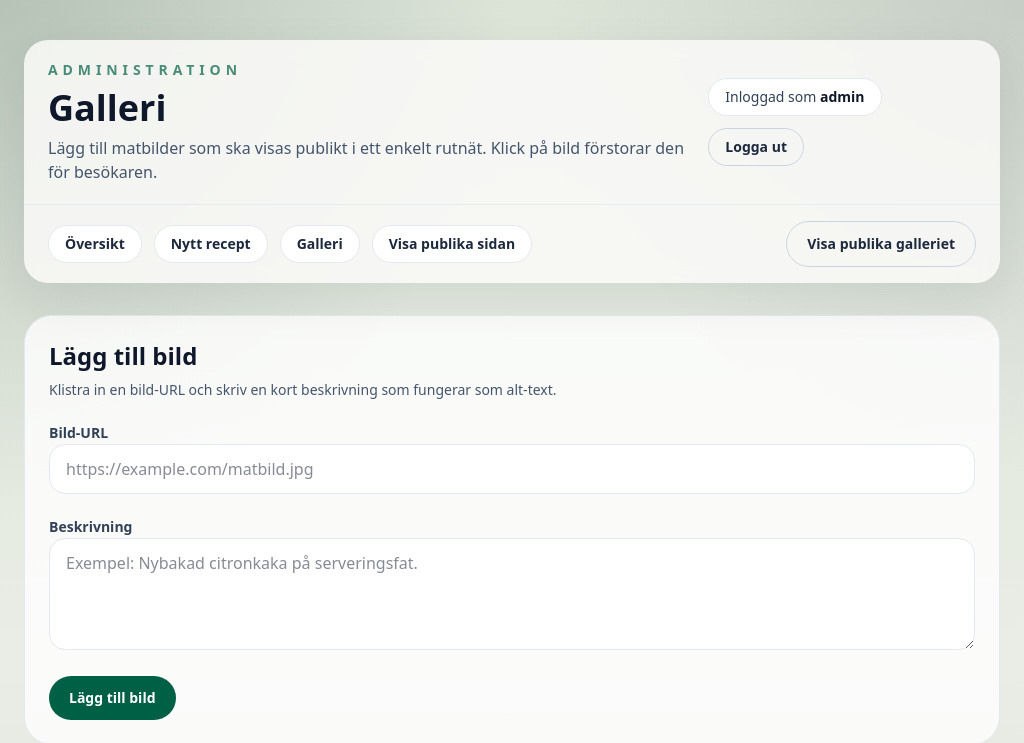
Test: AdminGalleryPage › submits a new gallery image from the admin form
Type "https://example.com/new-dish.jpg" into the field labelled "Bild-URL" at {"x": 512, "y": 469}, box [49,444,975,494]
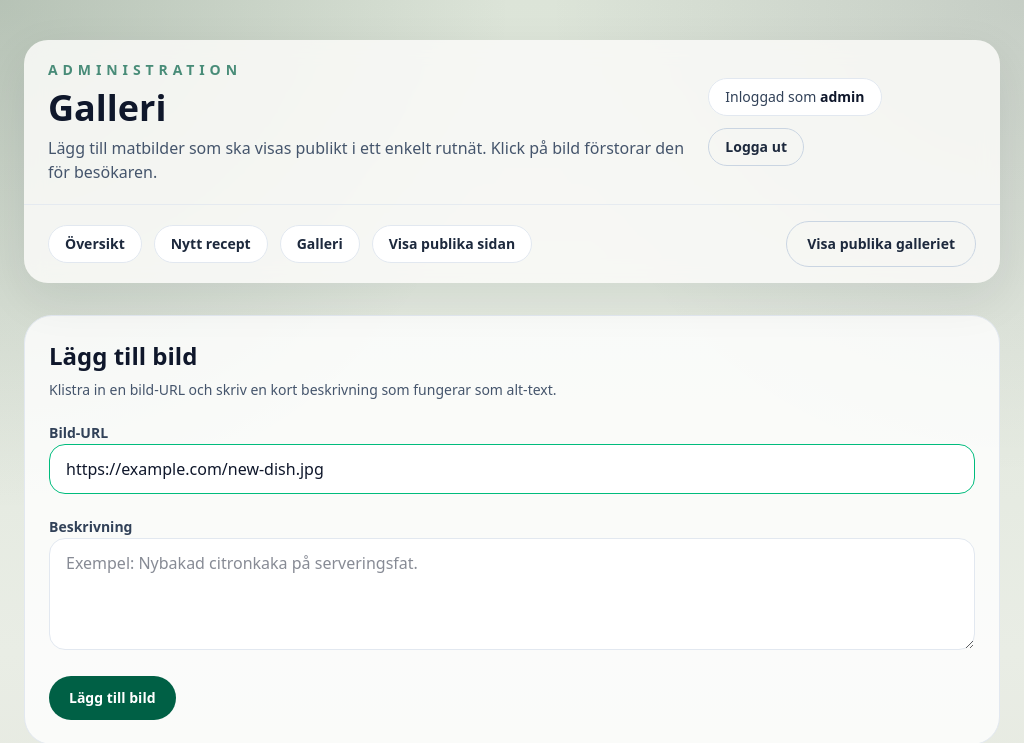
Type "Ny rätt på serveringsfat." into the text box labelled "Beskrivning" at {"x": 512, "y": 594}, box [49,538,975,650]
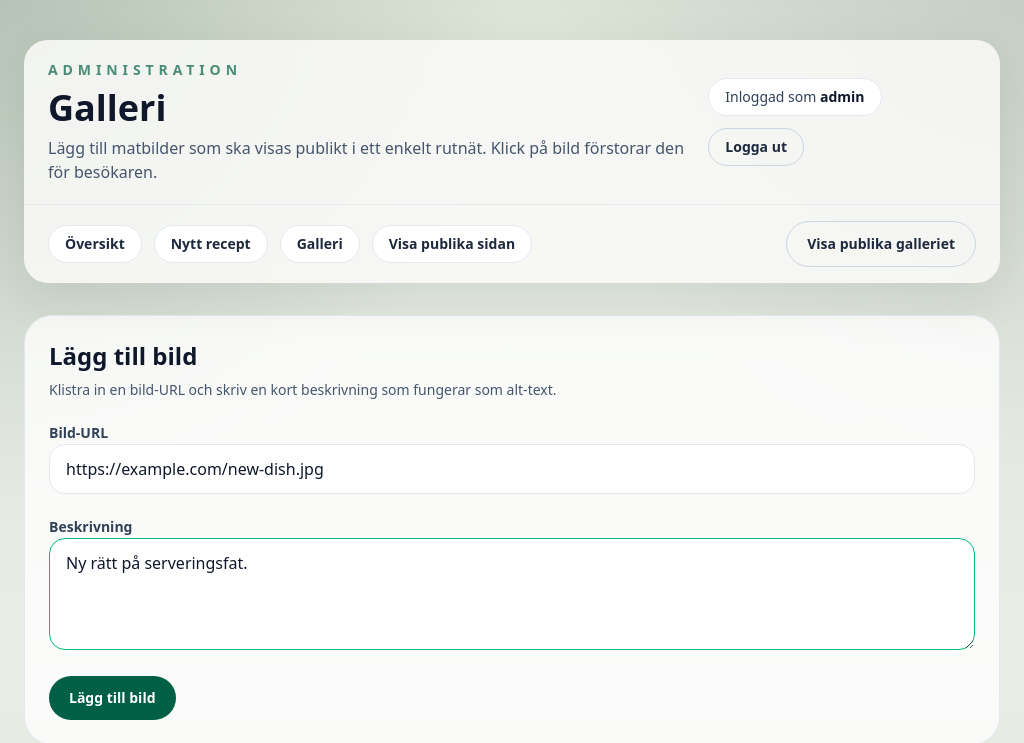
Click the button "Lägg till bild" at {"x": 112, "y": 698}, box [49,676,176,720]
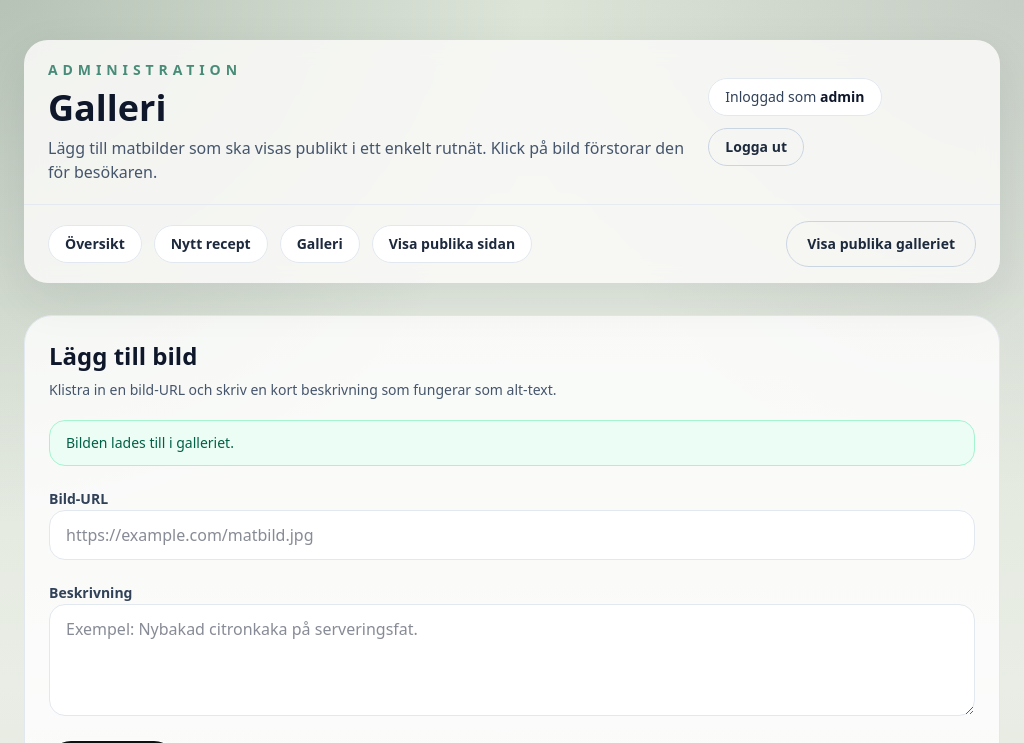
Expected: the text "Bilden lades till i galleriet." is shown, [49,420,975,466]
